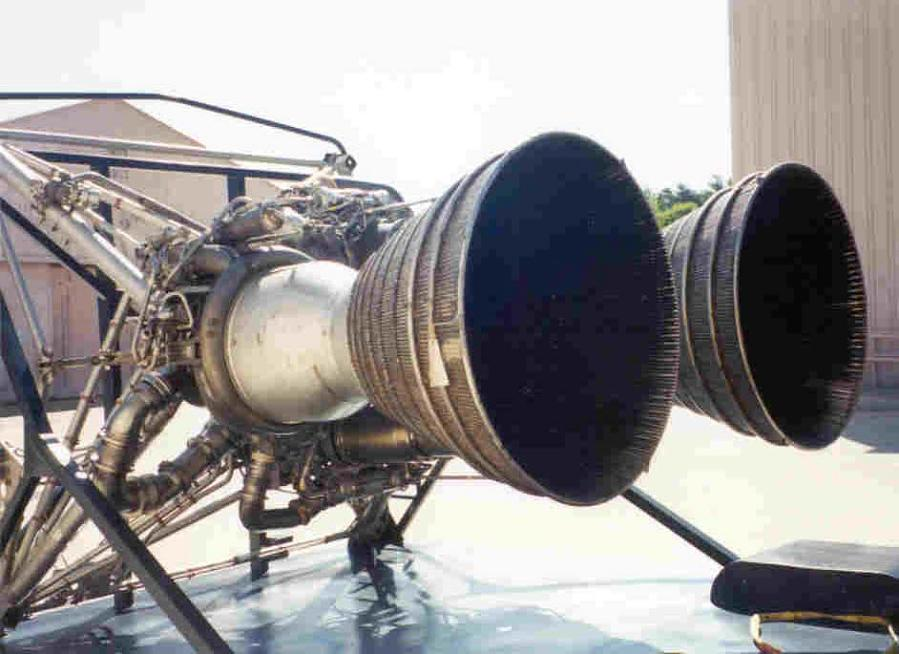thruster: (344, 122, 684, 509), (660, 156, 872, 454)
